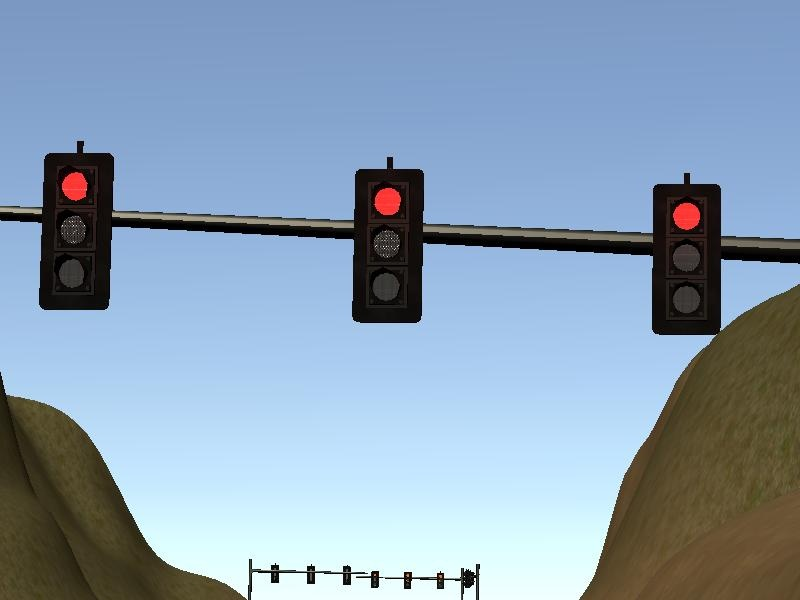RED: (36, 151, 113, 310), (348, 168, 423, 323), (650, 182, 722, 336)
